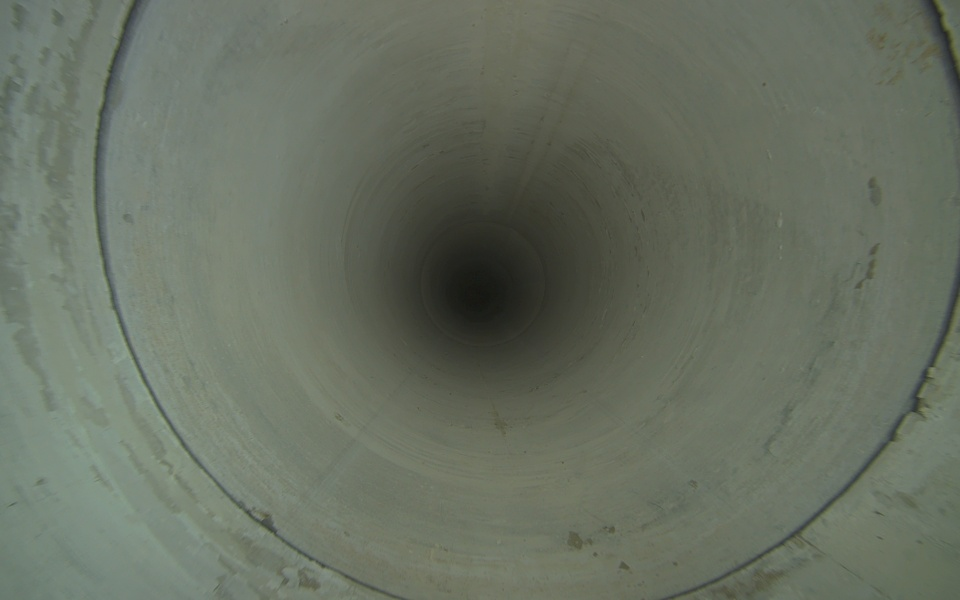circle1: (91, 3, 960, 600)
circle2: (460, 274, 496, 311)
